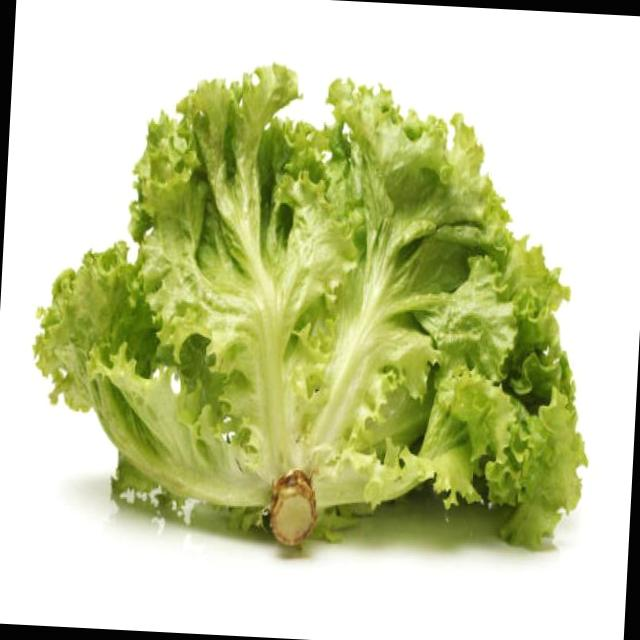Lettuce-Ready-to-Harvest: (33, 63, 589, 553)
